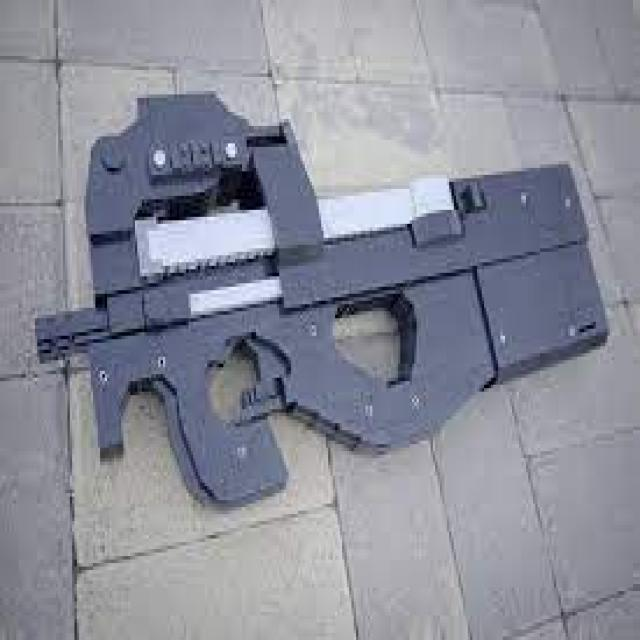Gun: (31, 76, 606, 534)
